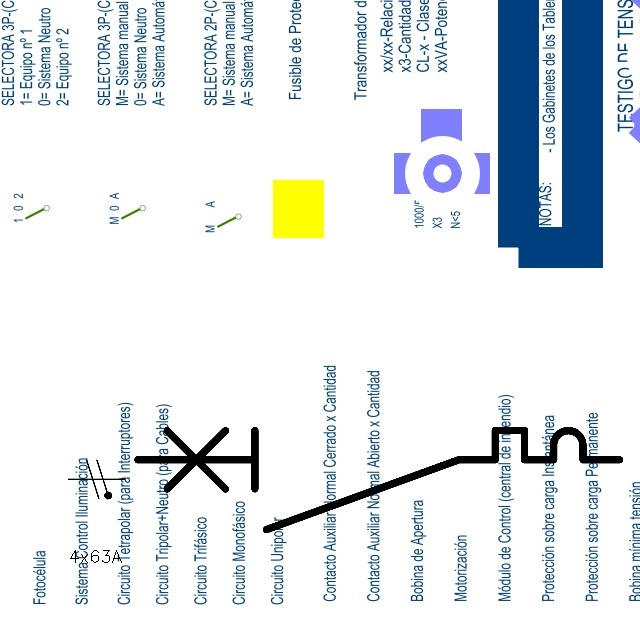interruptor_termomagnetico: (125, 418, 632, 542)
